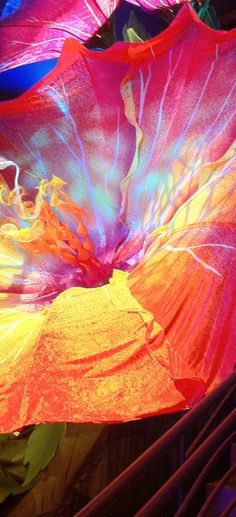Hibiscus: (1, 1, 236, 437)
